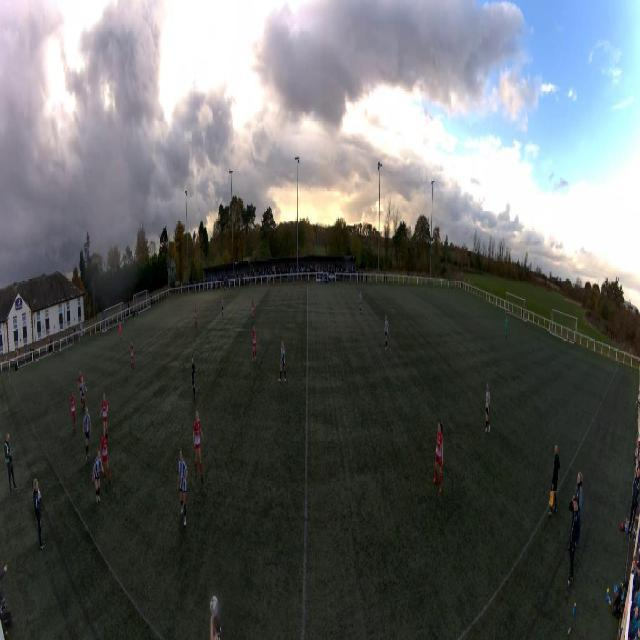ball: (210, 596, 219, 615)
player: (176, 448, 188, 529), (433, 420, 444, 492), (192, 412, 204, 472), (100, 427, 112, 482), (92, 449, 103, 503), (82, 405, 92, 457), (99, 392, 108, 432), (485, 379, 491, 438), (279, 338, 286, 384), (79, 372, 87, 408), (191, 353, 197, 400), (70, 392, 77, 430), (252, 324, 257, 360), (384, 317, 389, 351), (131, 342, 135, 372), (359, 290, 363, 314), (251, 299, 255, 321), (505, 316, 508, 338), (221, 296, 224, 318), (195, 306, 198, 328), (119, 322, 122, 339)
